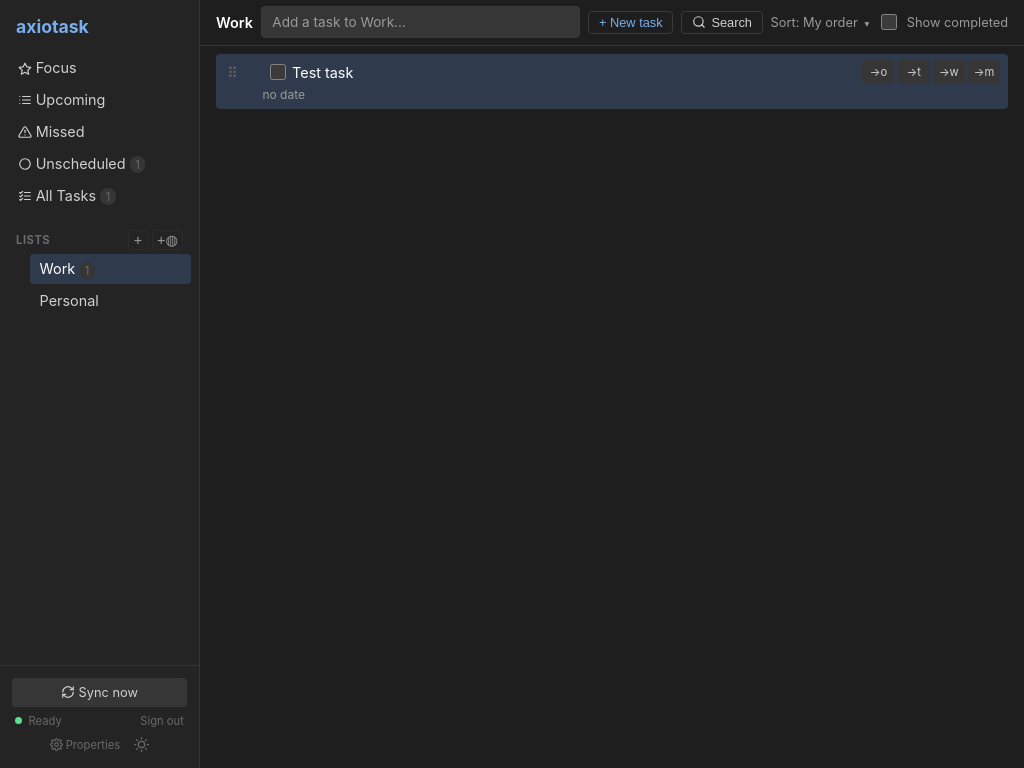
Test case: GH#19: Custom context menu › Move to list submenu › expands move submenu showing available lists
Expected: the text "Test task" is shown, top-left (292, 64), bottom-right (353, 81)
Right-click the element with class "task-widget" at point(612, 81), box top-left (216, 54), bottom-right (1008, 109)
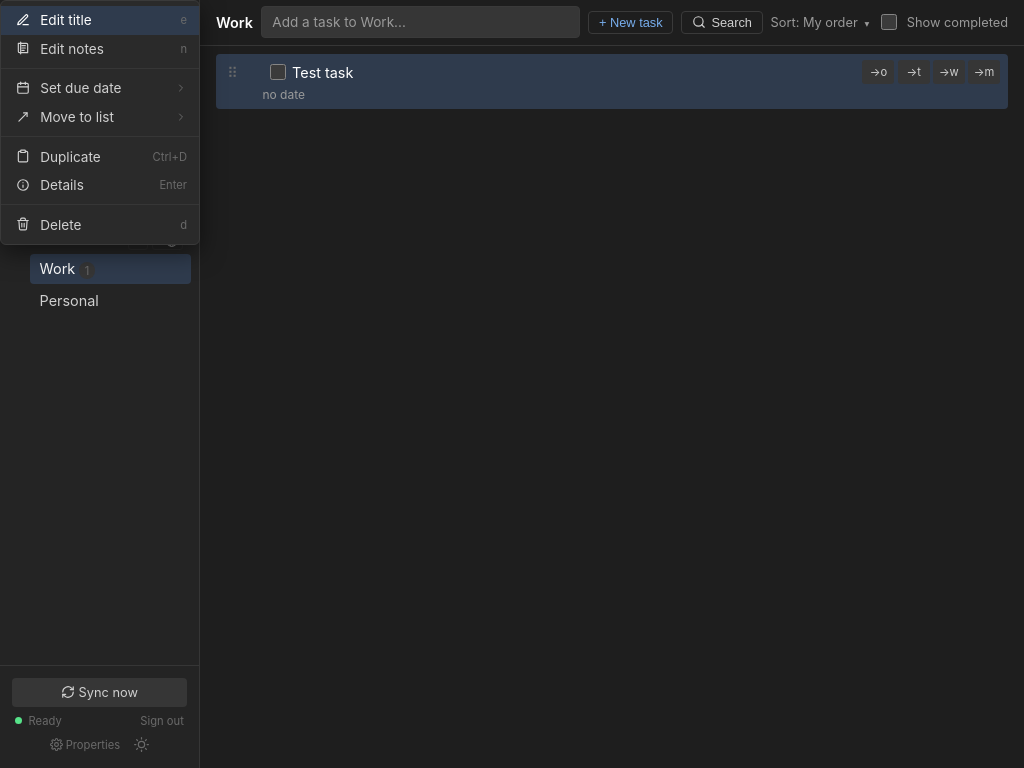
Expected: the menu with class "context-menu" is shown, top-left (0, 0), bottom-right (200, 245)
Click the text "Move to list" at point(101, 117), box top-left (16, 109), bottom-right (187, 125)
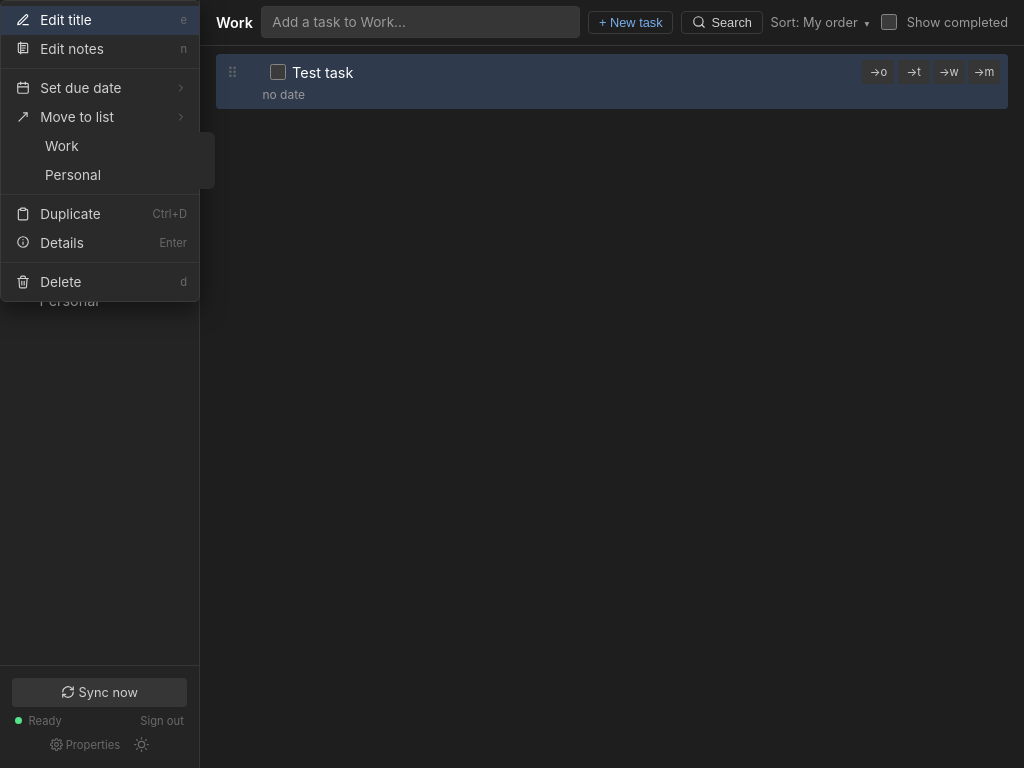
Expected: the element with class "submenu" is shown, top-left (17, 132), bottom-right (215, 189)
